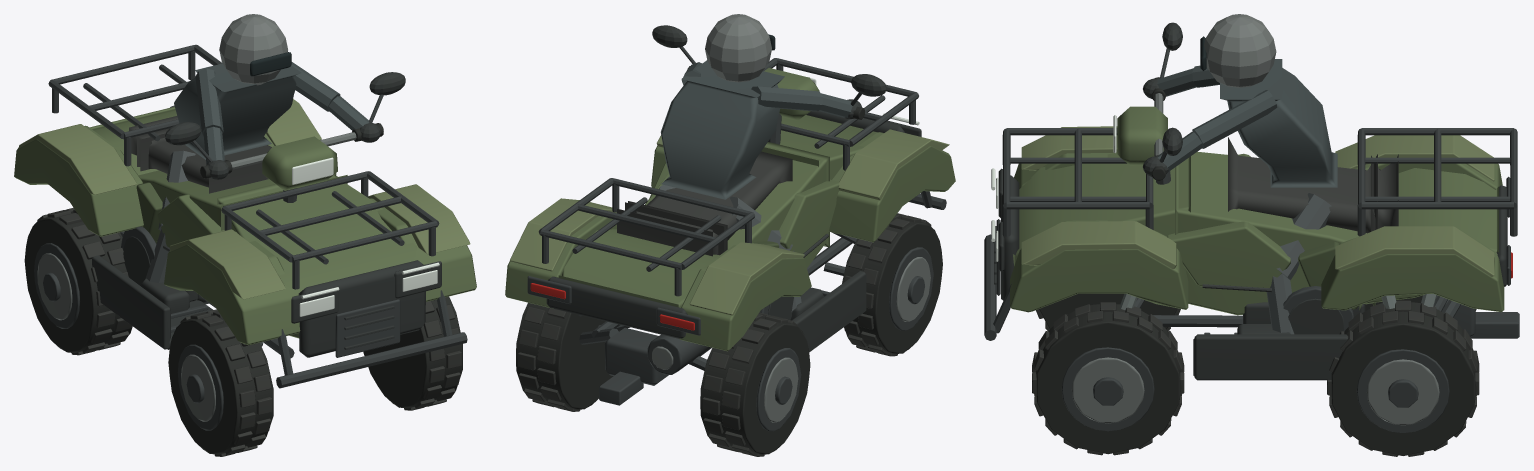
The model's file is atv_lod.glb.
The picture shows the model from 3 angles, left to right: view 1: azimuth 30°, elevation 25°; view 2: azimuth 150°, elevation 25°; view 3: azimuth 270°, elevation 25°; orthographic projection. The views are drawn at different scales.
Parts seen in each view (by area): view 1: Front bonnet, Front integrated fender, Tire carcass.001, Rider_torso, Tire carcass.003, Rear integrated fender, Front black fascia, Tire carcass, Front fender shoulder, Rear fender shoulder, Footwell outer lip, Rider_helmet (+45 smaller); view 2: Rider_torso, Tire carcass.003, Rear deck, Tire carcass.002, Front integrated fender, Tire carcass.001, Rear integrated fender, Contoured saddle, Rear fender shoulder, Rider_helmet, Front fender shoulder, Rear black fascia (+36 smaller); view 3: Tire carcass.002, Tire carcass, Front integrated fender.001, Rider_torso, Rear integrated fender.001, Central tank, Front bonnet, Footwell outer lip.001, Contoured saddle, Front side fairing.001, Rear deck, Front fender shoulder.001 (+42 smaller).
Boxes of the visible parts, <box> form: Front bonnet: <box>217,173,416,338</box>; Front integrated fender: <box>164,231,300,345</box>; Tire carcass.001: <box>168,314,273,454</box>; Rider_torso: <box>174,63,301,159</box>; Tire carcass.003: <box>24,211,132,353</box>; Rear integrated fender: <box>14,125,143,236</box>; Front black fascia: <box>298,260,425,357</box>; Tire carcass: <box>363,296,462,408</box>; Front fender shoulder: <box>169,229,285,299</box>; Rear fender shoulder: <box>19,124,136,194</box>; Footwell outer lip: <box>92,255,170,349</box>; Rider_helmet: <box>219,14,287,85</box>; Rider_torso: <box>660,60,784,199</box>; Tire carcass.003: <box>700,316,810,454</box>; Rear deck: <box>558,229,719,307</box>; Tire carcass.002: <box>516,302,620,409</box>; Front integrated fender: <box>828,132,955,242</box>; Tire carcass.001: <box>842,217,942,354</box>; Rear integrated fender: <box>679,245,811,351</box>; Contoured saddle: <box>625,151,792,255</box>; Rear fender shoulder: <box>689,242,804,315</box>; Rider_helmet: <box>705,14,771,82</box>; Front fender shoulder: <box>838,129,949,200</box>; Rear black fascia: <box>546,276,687,338</box>; Tire carcass.002: <box>1331,302,1476,455</box>; Tire carcass: <box>1036,304,1181,454</box>; Front integrated fender.001: <box>1010,220,1188,312</box>; Rider_torso: <box>1220,59,1337,187</box>; Rear integrated fender.001: <box>1321,228,1504,312</box>; Central tank: <box>1175,151,1375,315</box>; Front bonnet: <box>1013,153,1190,265</box>; Footwell outer lip.001: <box>1194,334,1348,380</box>; Contoured saddle: <box>1228,137,1377,233</box>; Front side fairing.001: <box>1167,221,1290,287</box>; Rear deck: <box>1359,168,1498,310</box>; Front fender shoulder.001: <box>1021,221,1176,268</box>.
Bounding box in the file's own units: 1.34 × 1.83 × 2.32.
